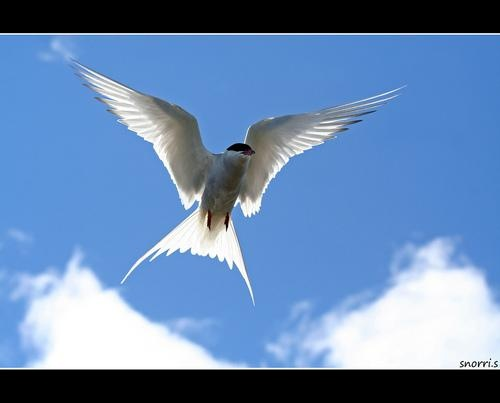bird: (70, 50, 407, 307)
